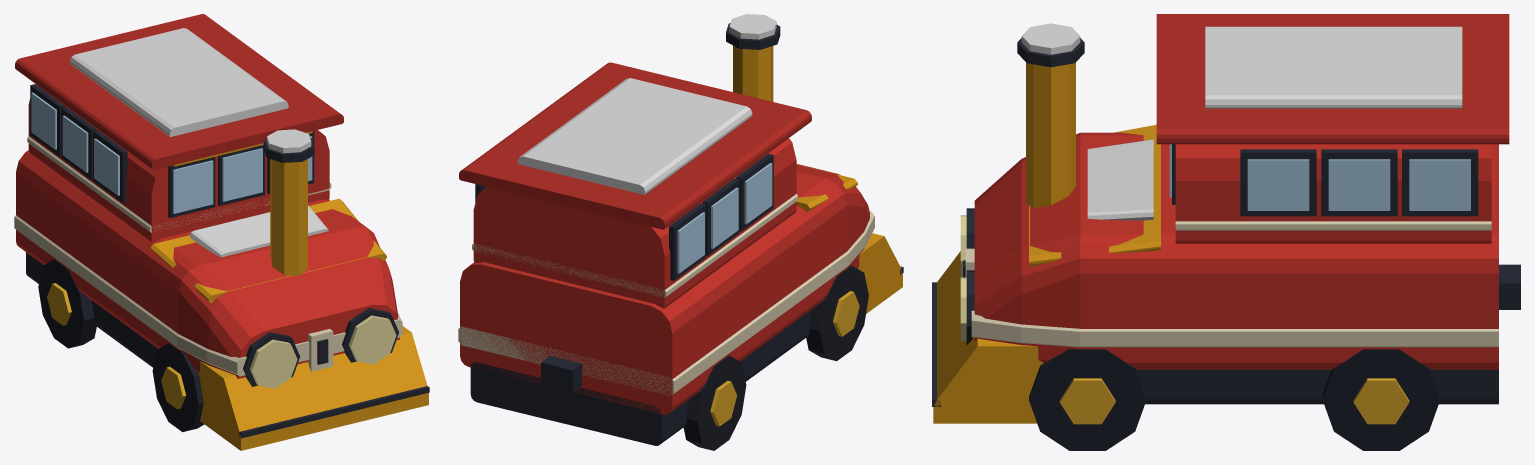
The model's file is train_loco.glb.
3 views of the same model, side by side, from view 1: azimuth 30°, elevation 25°; view 2: azimuth 150°, elevation 25°; view 3: azimuth 270°, elevation 25° (orthographic). The views are drawn at different scales.
Visible parts, largest first — view 1: train_loco; view 2: train_loco; view 3: train_loco.
Part boxes in pixels (x1,y1,x2,y2): train_loco: [14, 14, 429, 450]; train_loco: [458, 14, 903, 450]; train_loco: [932, 14, 1520, 450].
Bounding box in the file's own units: 2.08 × 2.65 × 4.01.
